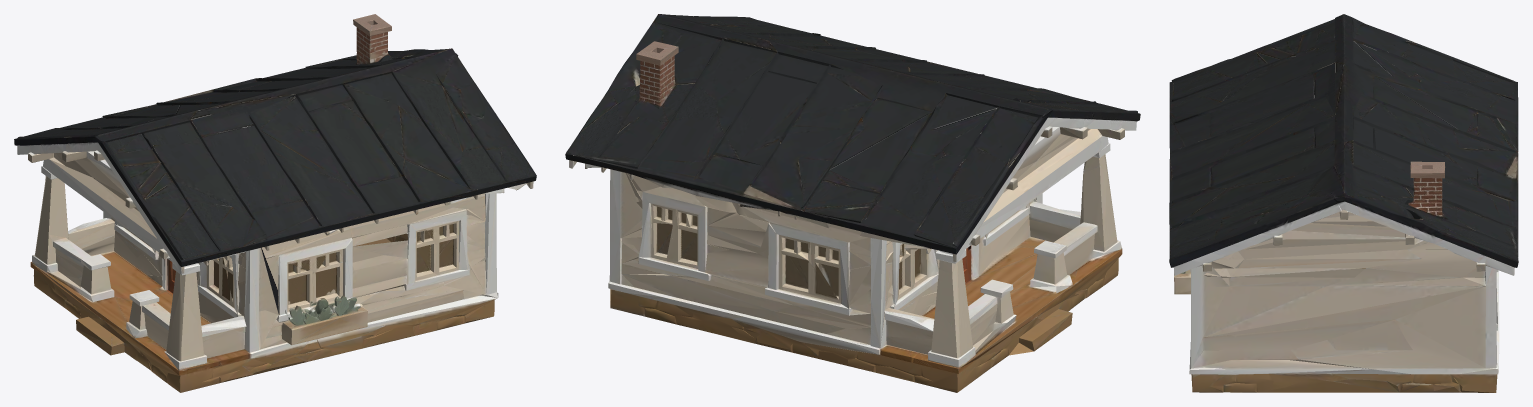
The model's file is bungalow.glb.
3 renders of one model, left to right at view 1: azimuth 30°, elevation 25°; view 2: azimuth 150°, elevation 25°; view 3: azimuth 270°, elevation 25°, orthographic. The views are drawn at different scales.
Size of the model in its own units: 1.9 by 1.07 by 1.53.
1 material, 1 textured.
